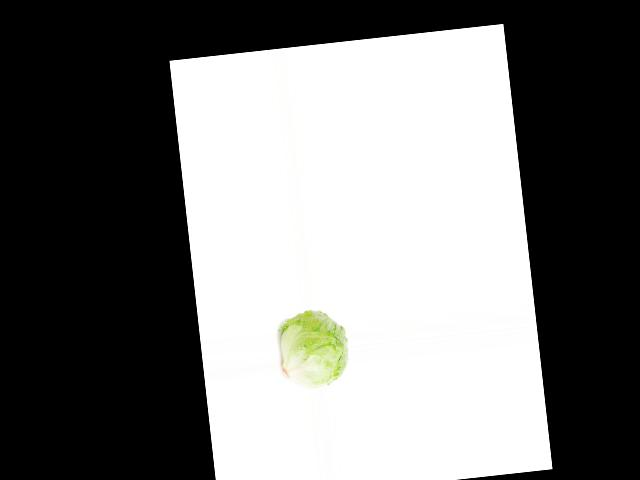lettuce: (277, 307, 351, 387)
